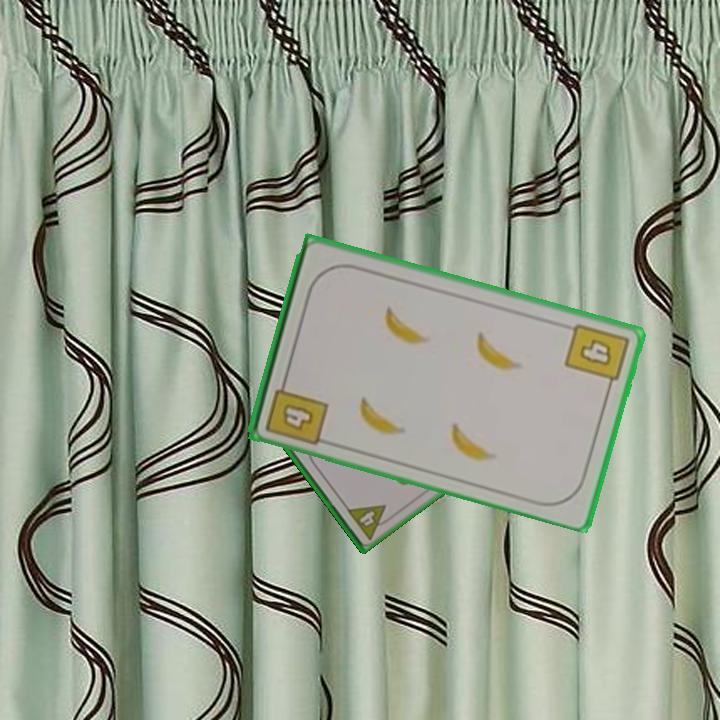4b: (561, 319, 632, 394), (262, 372, 331, 448)
4p: (343, 500, 396, 542)
